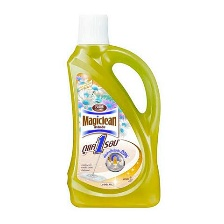cleaning_solution: (64, 10, 163, 209)
